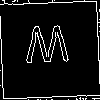W: (24, 25, 70, 72)
